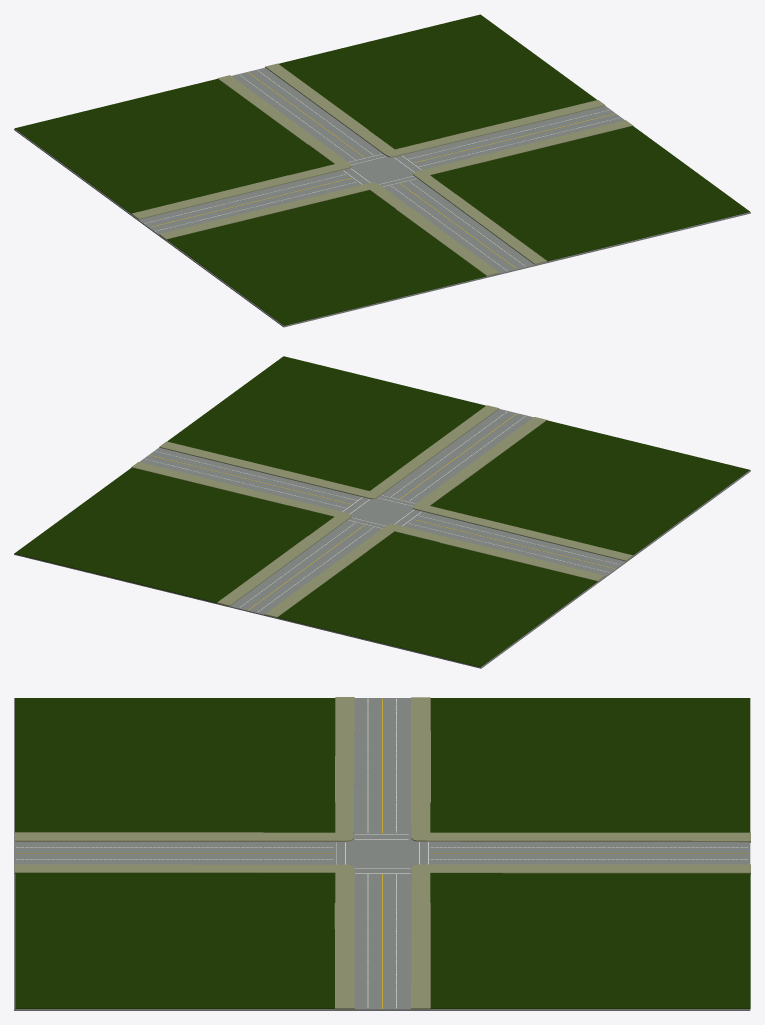
File: Mapa blender.fbx
3 renders of one model, top to bottom at view 1: azimuth 30°, elevation 25°; view 2: azimuth 150°, elevation 25°; view 3: azimuth 270°, elevation 25°, orthographic. The views are drawn at different scales.
Parts seen in each view (by area): view 1: pCube390, pCube10, pCube342, pCube335, pCube1, polySurface2, polySurface3, polySurface1, polySurface4; view 2: pCube342, pCube335, pCube390, pCube10, pCube1, polySurface1, polySurface4, polySurface2, polySurface3; view 3: pCube335, pCube10, pCube390, pCube342, pCube1, polySurface3, polySurface4, polySurface2, polySurface1.
Part boxes in pixels (x1,y1,x2,y2): pCube390: (167,190,486,325); pCube10: (430,126,749,261); pCube342: (15,78,334,213); pCube335: (278,14,596,149); pCube1: (14,67,750,327); polySurface2: (265,63,605,157); polySurface3: (131,75,351,219); polySurface1: (413,120,633,264); polySurface4: (159,182,499,276); pCube342: (277,531,597,667); pCube335: (14,467,333,603); pCube390: (430,420,749,555); pCube10: (167,356,485,490); pCube1: (14,409,750,668); polySurface1: (159,405,499,499); polySurface4: (412,417,632,561); polySurface2: (131,462,351,606); polySurface3: (264,524,604,618); pCube335: (430,873,750,1008); pCube10: (15,873,335,1008); pCube390: (15,698,335,832); pCube342: (430,698,750,832); pCube1: (14,698,750,1010); polySurface3: (411,697,750,842); polySurface4: (15,697,354,841); polySurface2: (411,864,750,1009); polySurface1: (14,864,354,1009).
Bounding box in the file's own units: 436 × 1.83 × 436.
